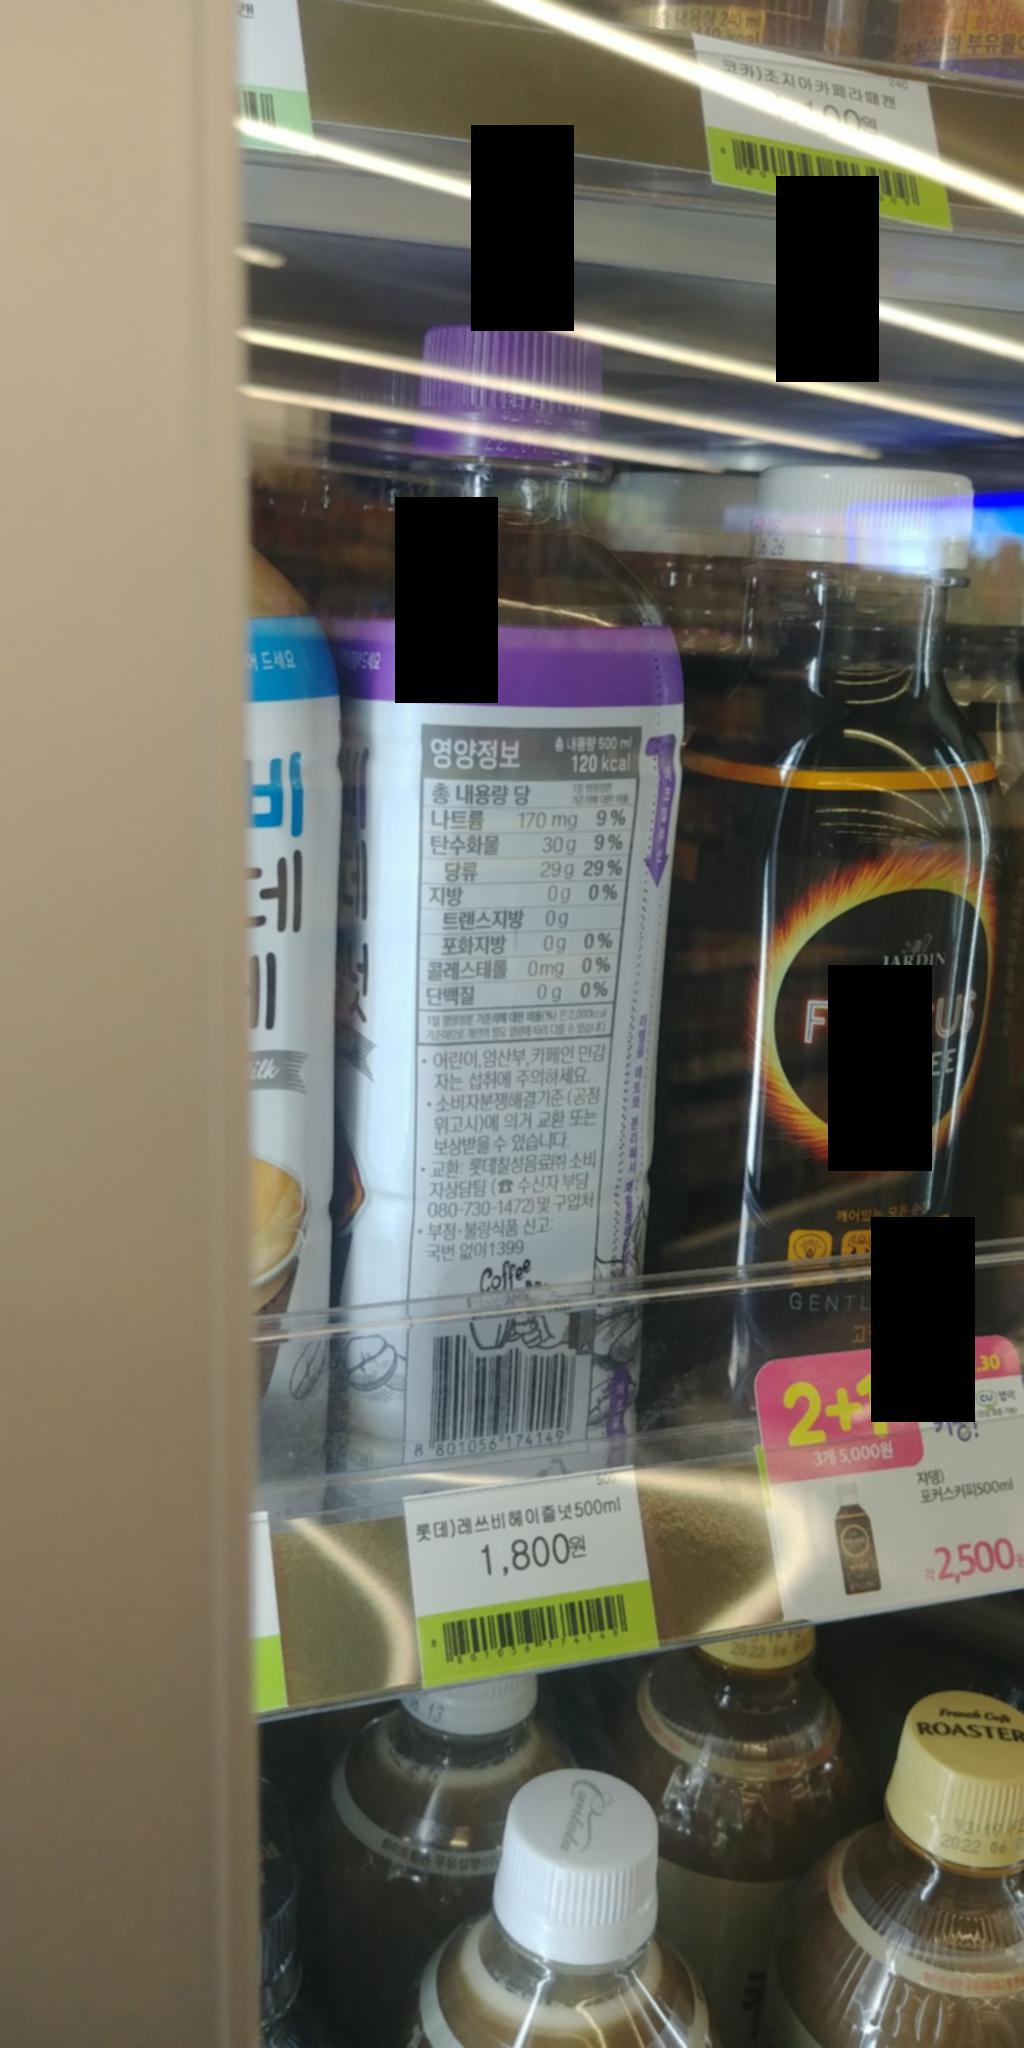letsbe_grande_hazelnut: (336, 315, 660, 1468)
